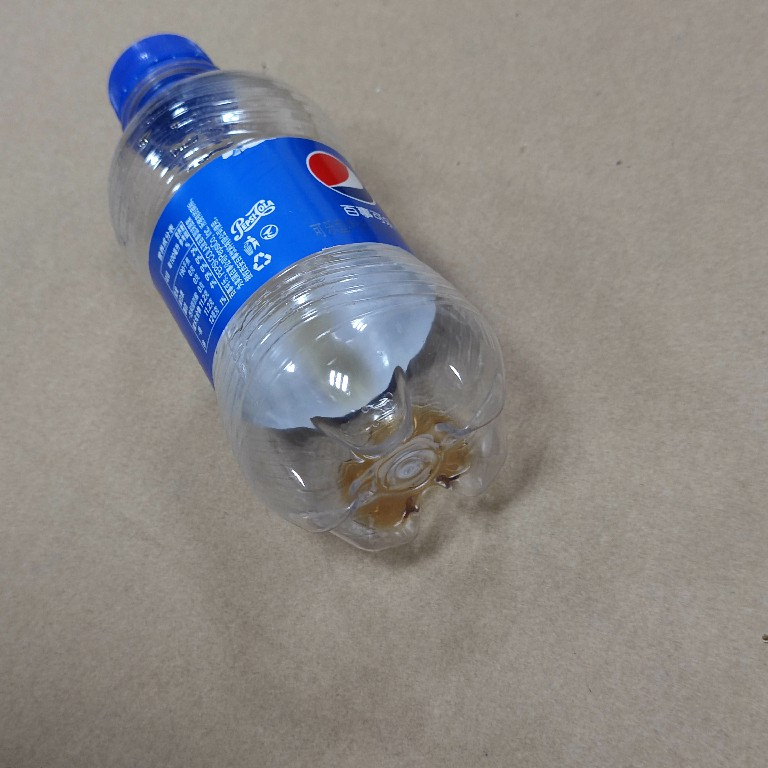bottle: (99, 27, 511, 565)
